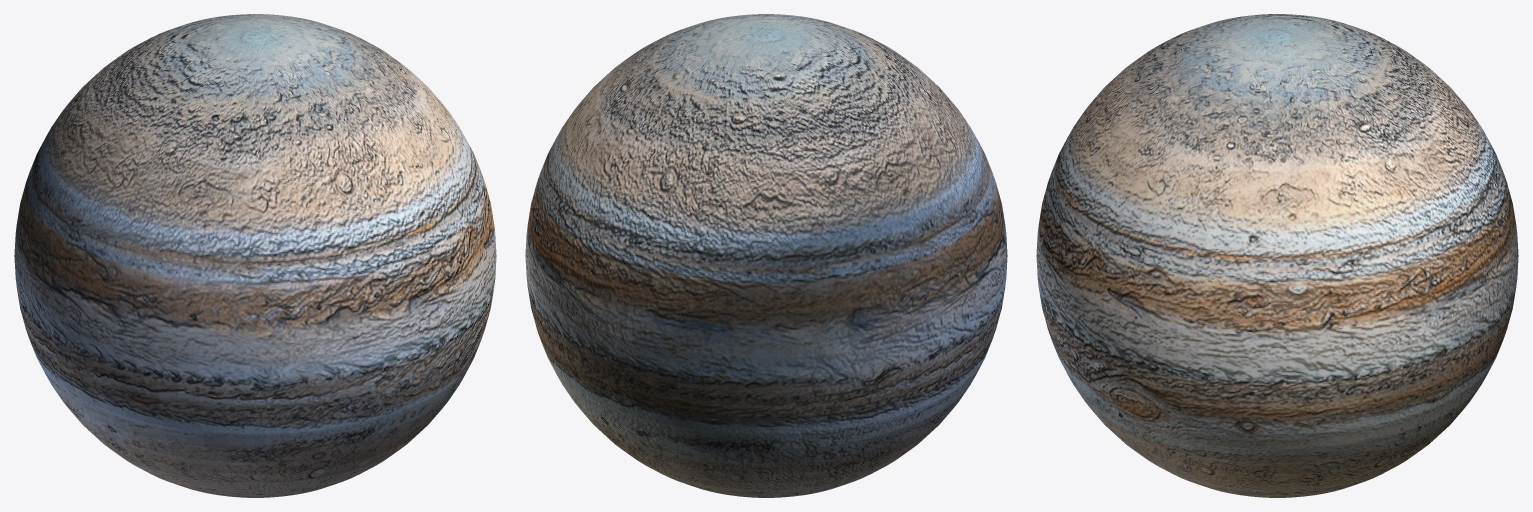
Rendered from jupiter.obj.
3 views of the same model, side by side, from view 1: azimuth 30°, elevation 25°; view 2: azimuth 150°, elevation 25°; view 3: azimuth 270°, elevation 25° (orthographic).
Parts seen in each view (by area): view 1: Sphere; view 2: Sphere; view 3: Sphere.
Part boxes in pixels (left/top/right/bottom): Sphere: left=14, top=14, right=496, bottom=497; Sphere: left=525, top=14, right=1007, bottom=497; Sphere: left=1036, top=14, right=1518, bottom=497.
Size of the model in its own units: 1.97 by 2 by 1.98.
1 material, 1 textured.
